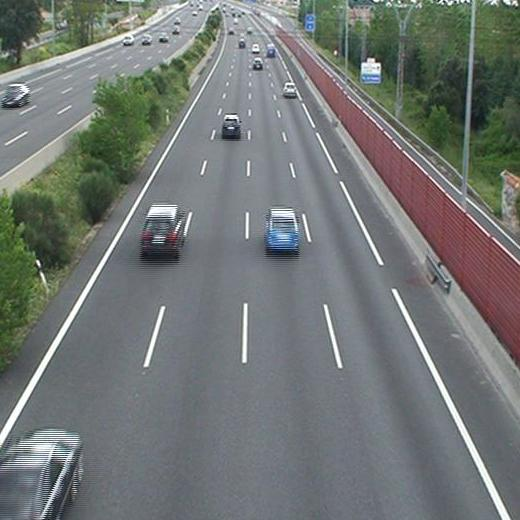car: (1, 429, 80, 520), (142, 205, 184, 254), (266, 208, 298, 250), (222, 116, 241, 135), (284, 82, 296, 95), (252, 58, 262, 68), (236, 38, 245, 47), (251, 45, 258, 53)
van: (266, 44, 274, 55)
